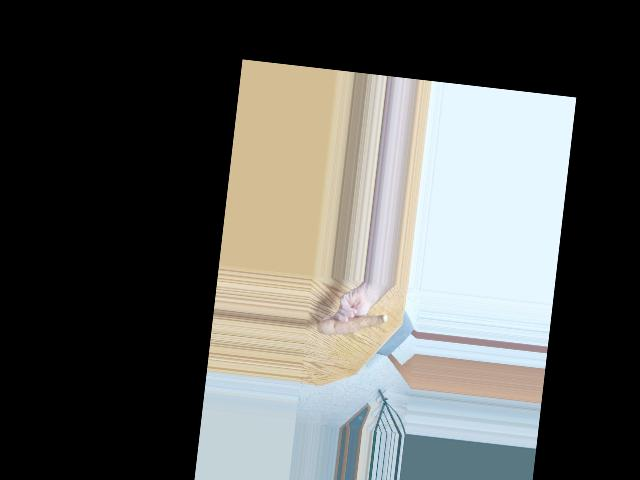sweet_potato: (318, 304, 389, 344)
